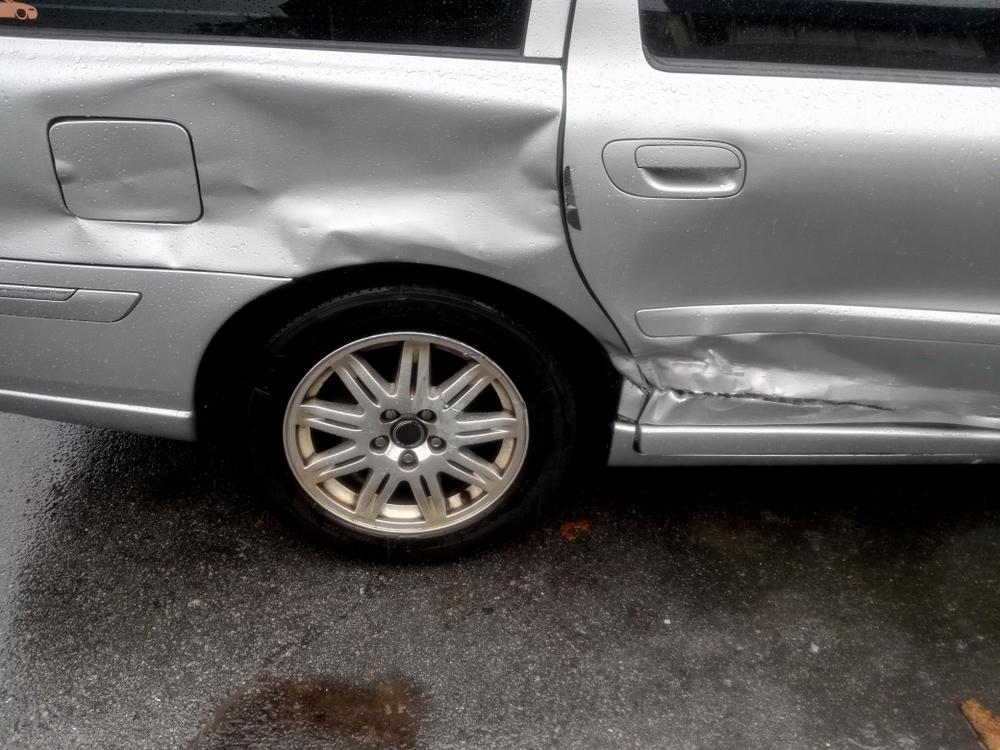dent: (6, 72, 561, 272), (632, 333, 1000, 427)
